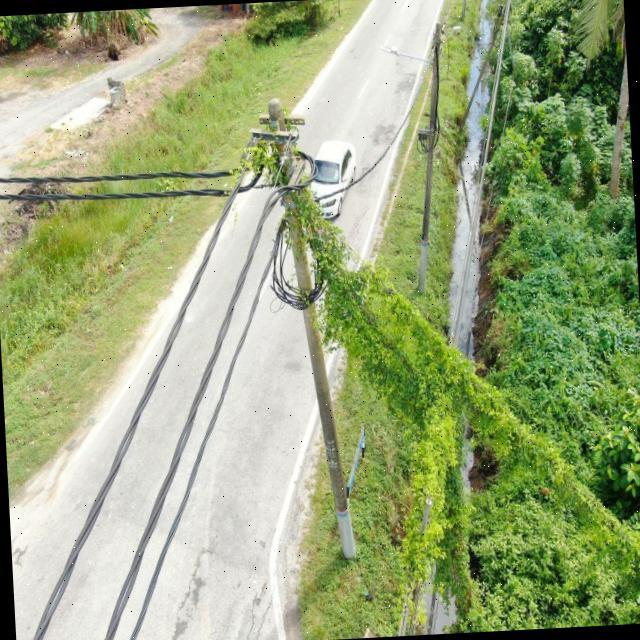critical vegetation: (230, 78, 640, 611)
